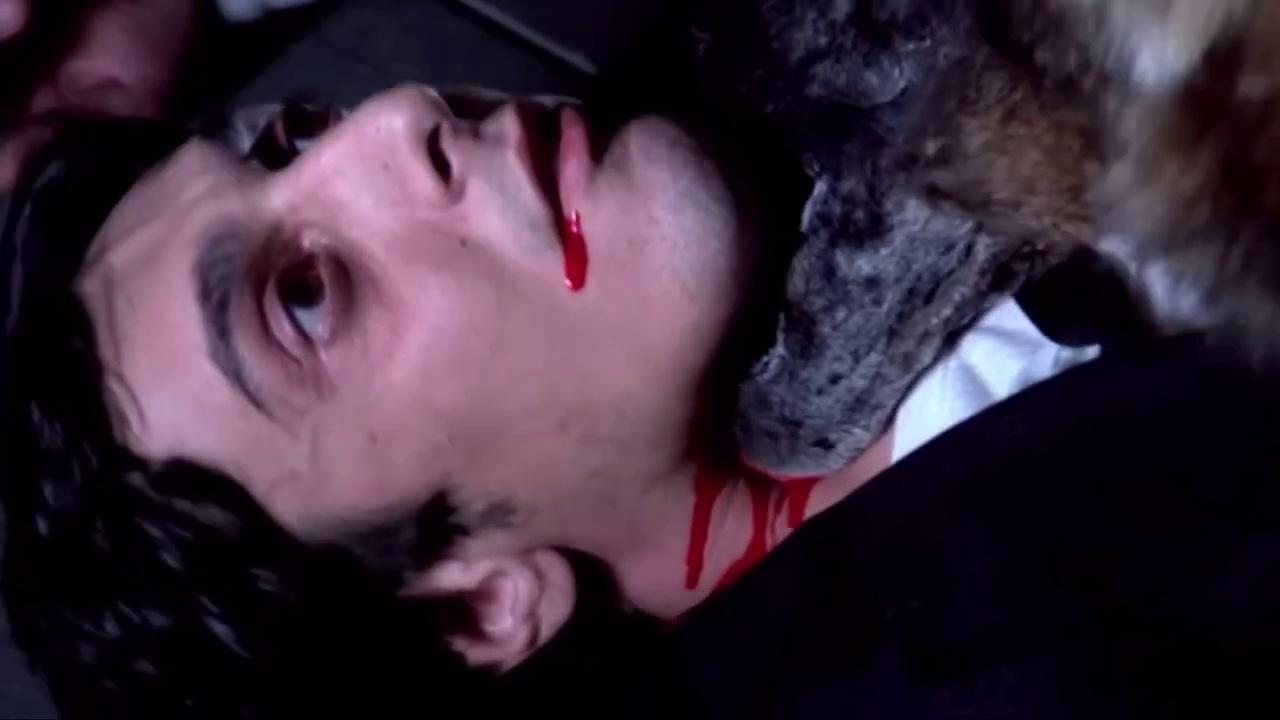Fire: (686, 460, 824, 594), (555, 209, 589, 290)
